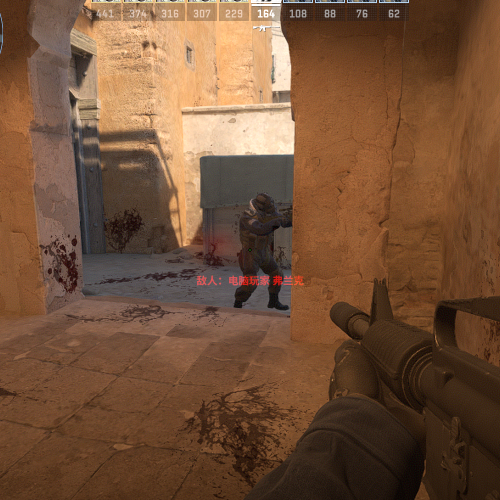ct_body: (235, 193, 288, 312)
ct_head: (251, 192, 276, 217)
